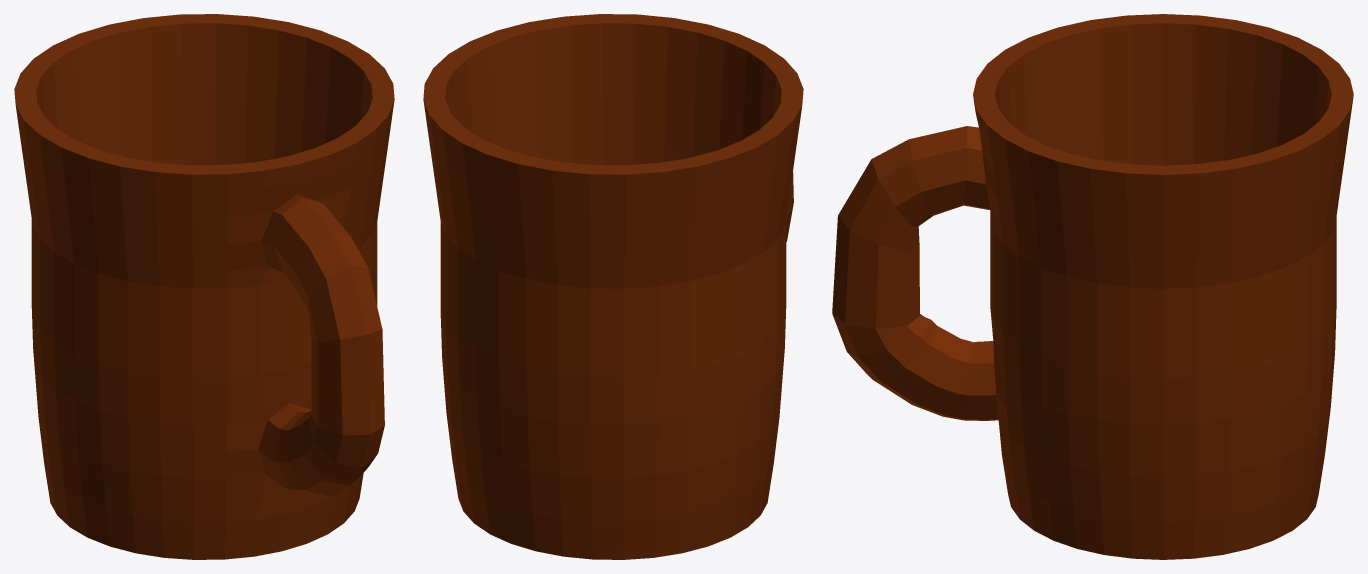
Rendered from Mug.fbx.
3 renders of one model, left to right at view 1: azimuth 30°, elevation 25°; view 2: azimuth 150°, elevation 25°; view 3: azimuth 270°, elevation 25°, orthographic.
Visible parts, largest first — view 1: Mug; view 2: Mug; view 3: Mug.
Boxes of the visible parts, x1=… form: Mug: x1=14, y1=14, x2=394, y2=559; Mug: x1=423, y1=14, x2=803, y2=559; Mug: x1=832, y1=14, x2=1353, y2=559.
Bounding box in the file's own units: 0.1096 × 0.127 × 0.1502.
